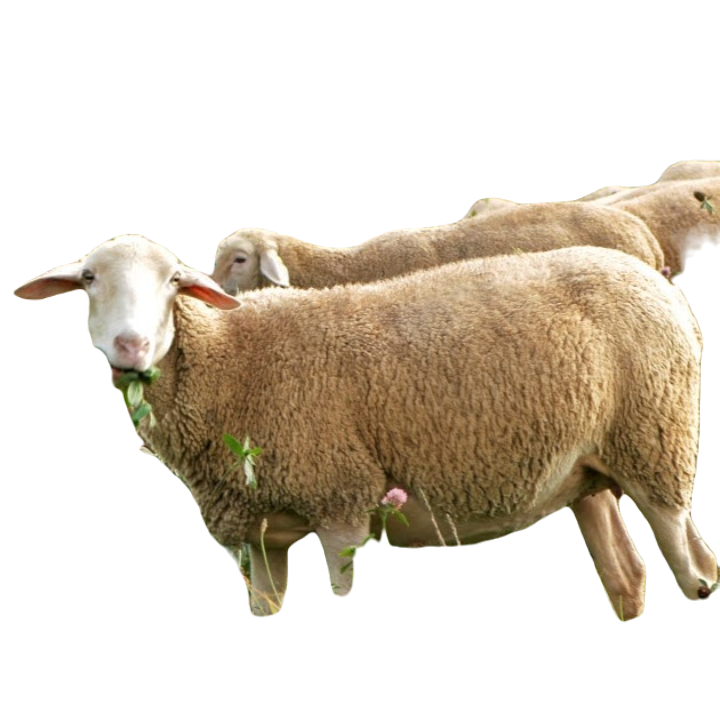Sheep: (12, 228, 719, 623)
